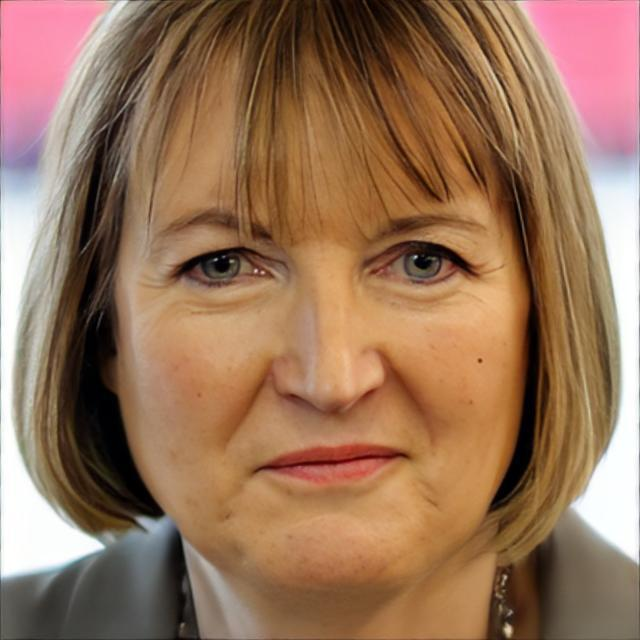disgust: (110, 61, 530, 595)
